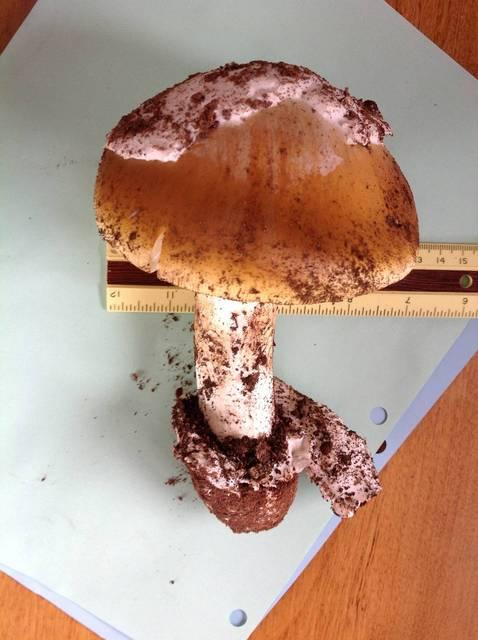edible_mushroom: (92, 58, 420, 533)
